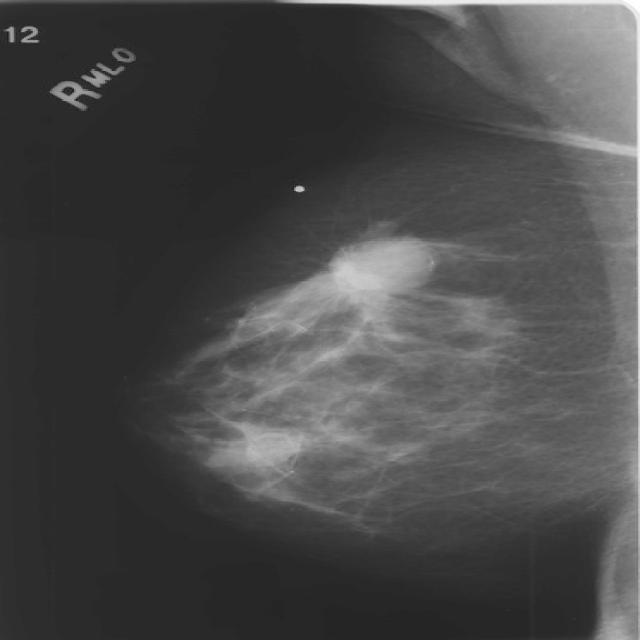tumour: (298, 235, 437, 302)
